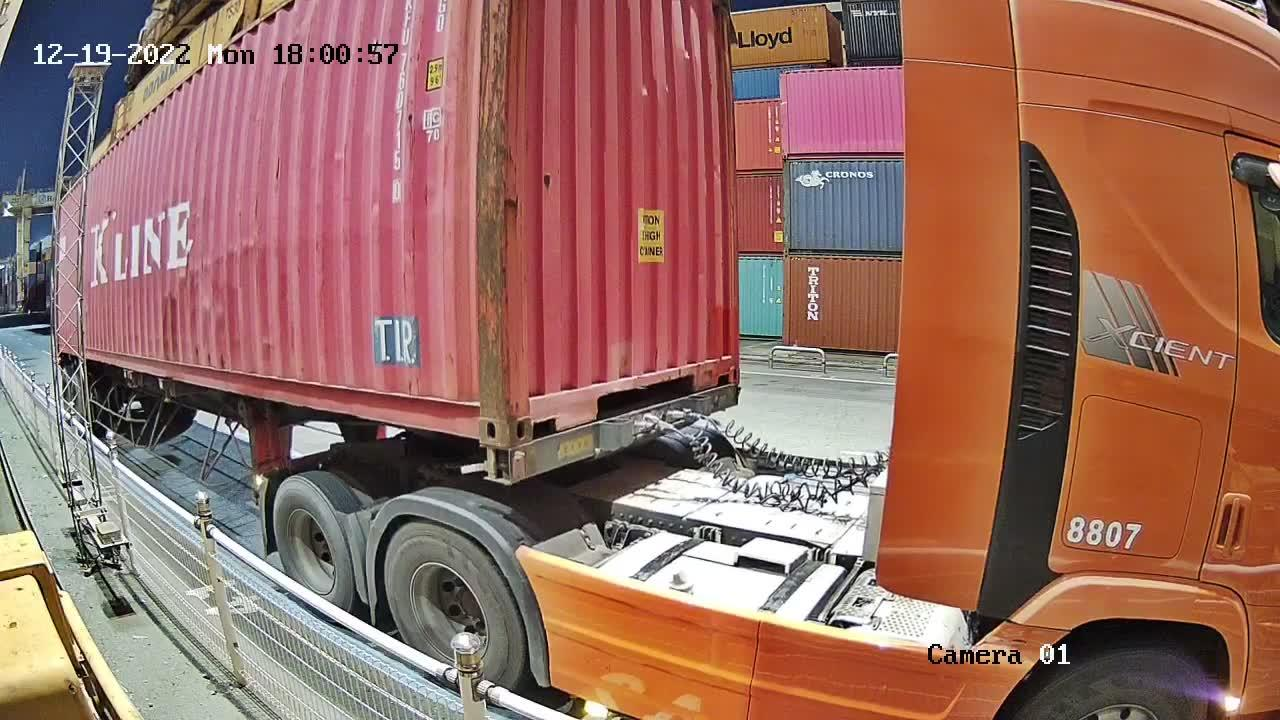Chassis: (483, 382, 740, 484)
Cone: (480, 447, 509, 484)
Hole_L: (505, 370, 562, 449)
Hole_R: (438, 367, 504, 450), (692, 328, 742, 394)
Tire: (386, 525, 523, 684), (271, 477, 352, 610)
